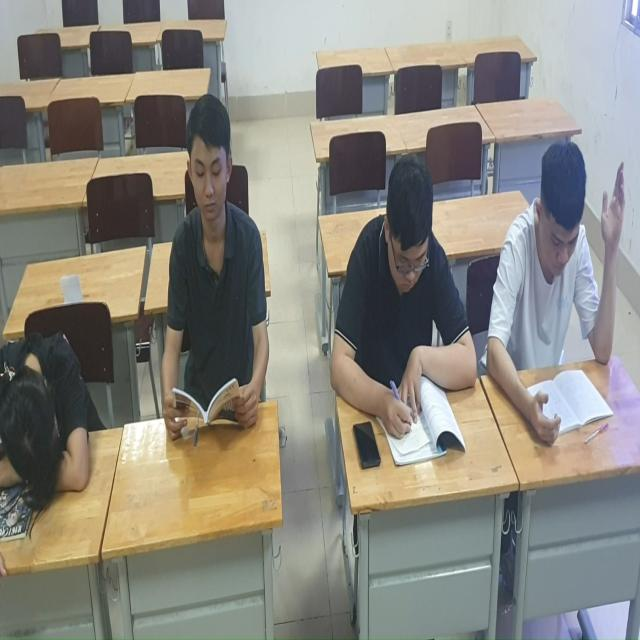raise_hand: (484, 137, 636, 455)
read: (323, 142, 485, 484), (155, 86, 283, 470)
sleep: (1, 295, 101, 524)
